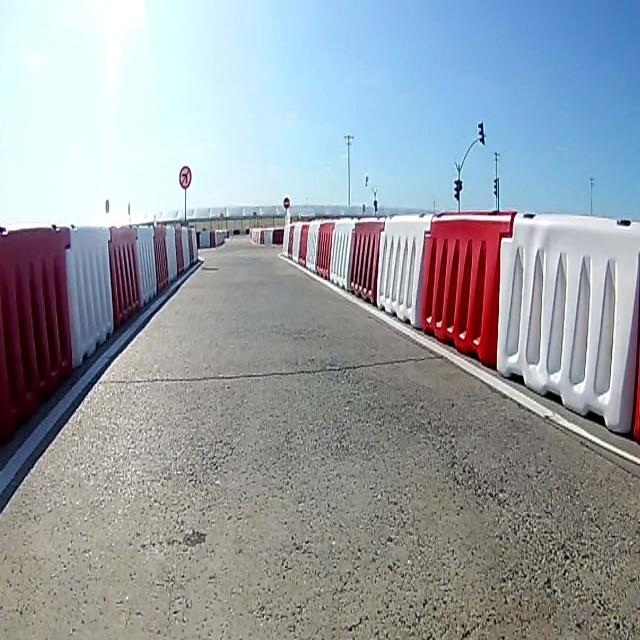soladonulmez: (179, 165, 191, 188)
